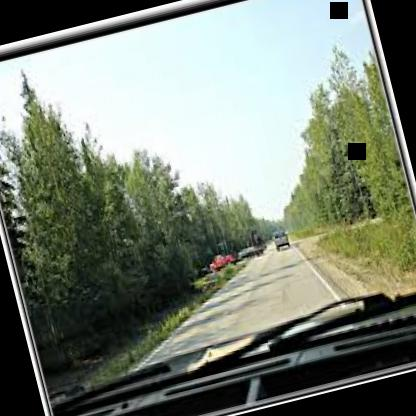car: (265, 217, 297, 259)
